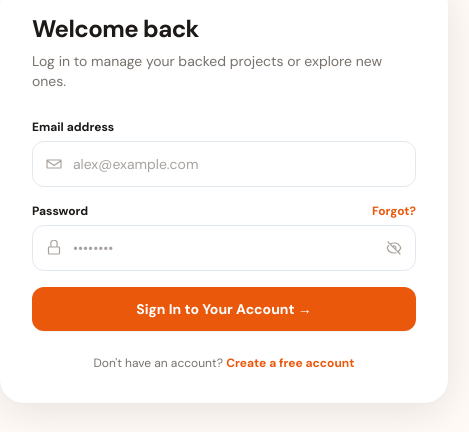
LoginForm (Critical) › shows password when eye icon is clicked
Click the button named "Show password" at (394, 248), box [386, 240, 402, 256]
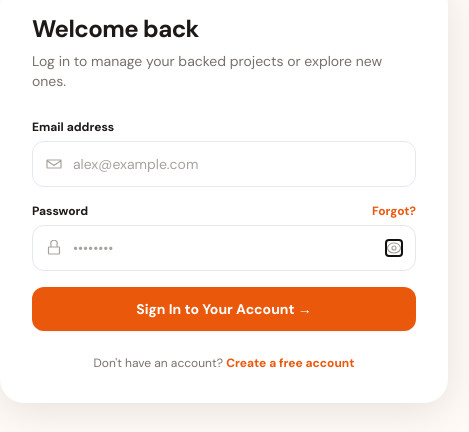
Now the button named "Hide password" is shown, box [386, 240, 402, 256]
